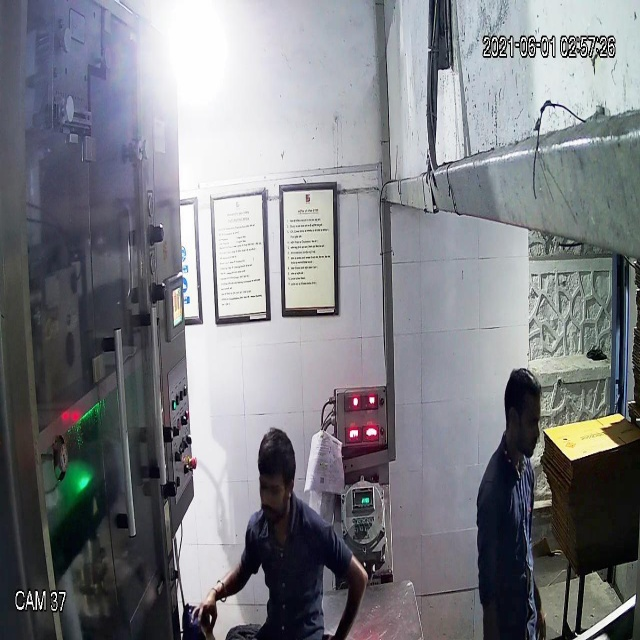Sin_gafas: (253, 471, 298, 502)
